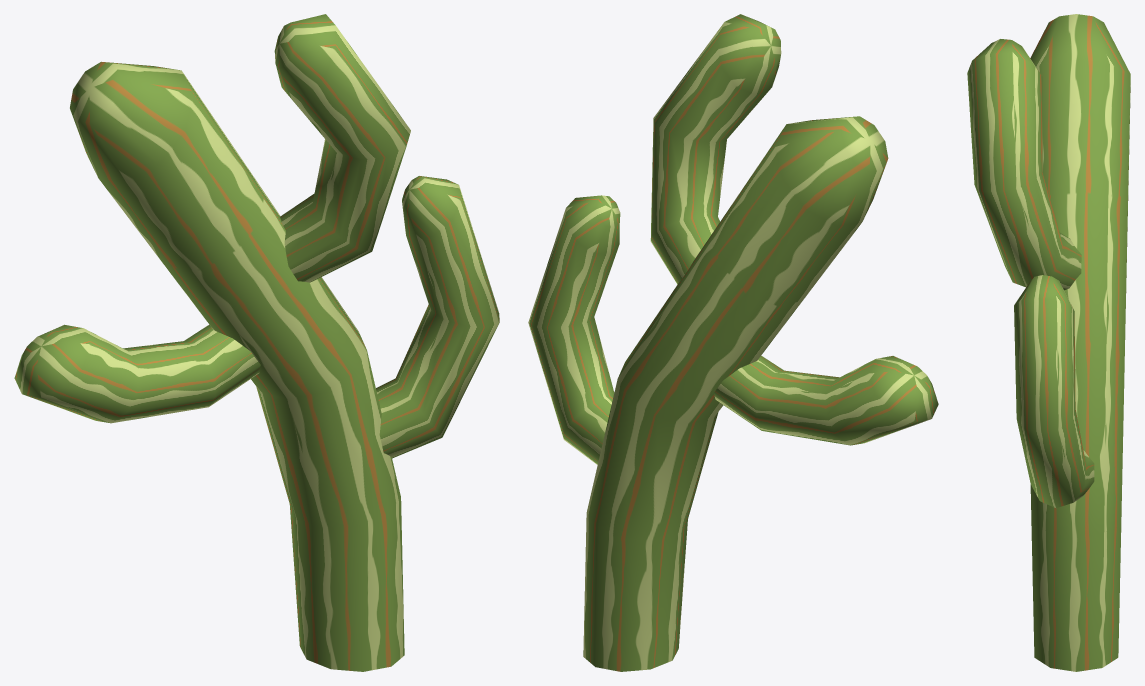
File: cactus02.FBX
The picture shows the model from 3 angles, left to right: view 1: azimuth 30°, elevation 25°; view 2: azimuth 150°, elevation 25°; view 3: azimuth 270°, elevation 25°; orthographic projection. The views are drawn at different scales.
Parts seen in each view (by area): view 1: cactus02, kqtus04, kqtus05, kqtus03; view 2: cactus02, kqtus04, kqtus05, kqtus03; view 3: cactus02, kqtus04, kqtus05.
Part boxes in pixels (x1,y1,x2,y2): cactus02: (70,61,404,671); kqtus04: (274,14,410,282); kqtus05: (376,176,499,458); kqtus03: (14,324,260,423); cactus02: (583,116,888,671); kqtus04: (650,14,781,284); kqtus05: (528,195,620,464); kqtus03: (714,355,938,445); cactus02: (1030,14,1130,671); kqtus04: (967,39,1081,290); kqtus05: (1014,275,1094,507).
Bounding box in the file's own units: 345 × 495 × 128.
